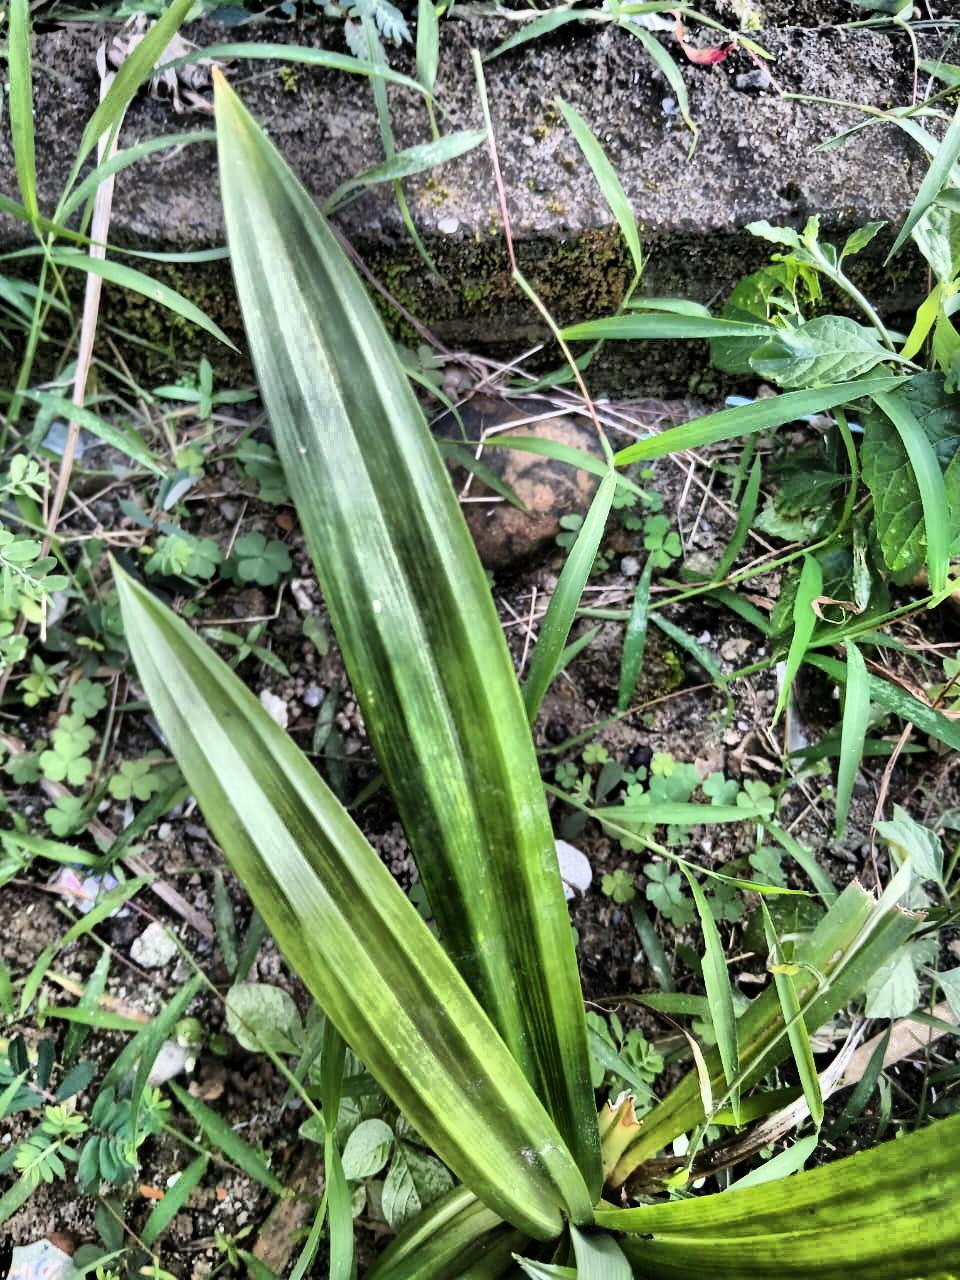daun pandan: (114, 73, 959, 1279), (730, 870, 917, 1089)
